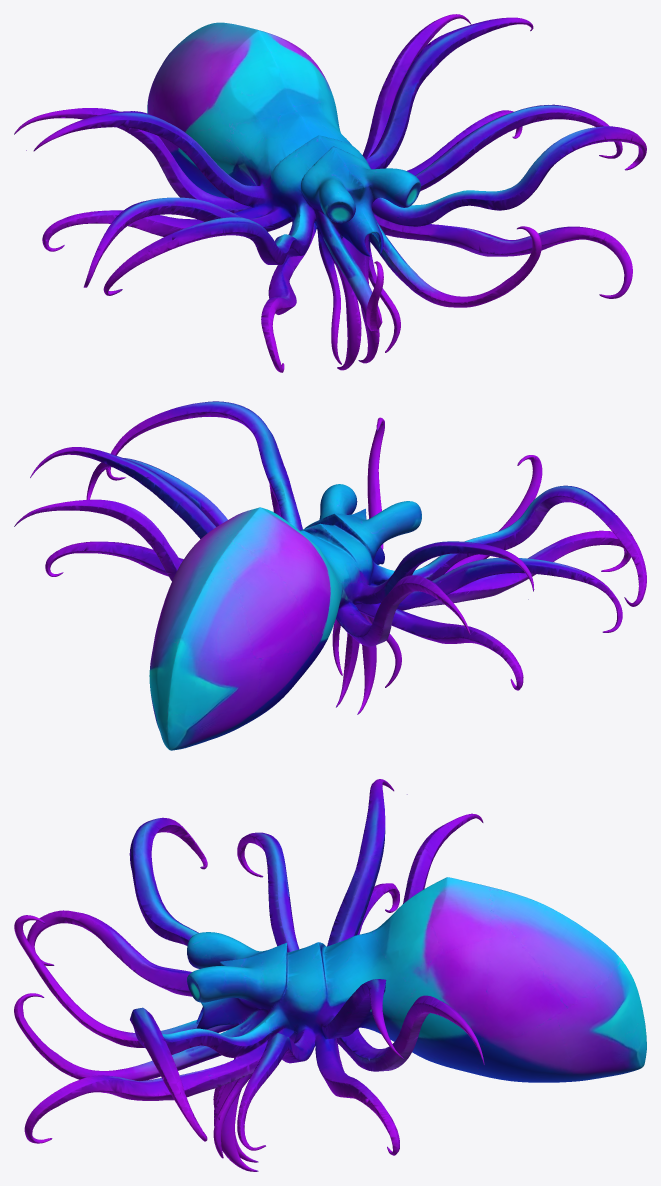
File: squid-cannon.glb
3 views of the same model, one above another, from view 1: azimuth 30°, elevation 25°; view 2: azimuth 150°, elevation 25°; view 3: azimuth 270°, elevation 25° (orthographic). The views are drawn at different scales.
Size of the model in its own units: 1.9 by 0.9117 by 1.8.
Materials: 1 (1 with a texture image).
